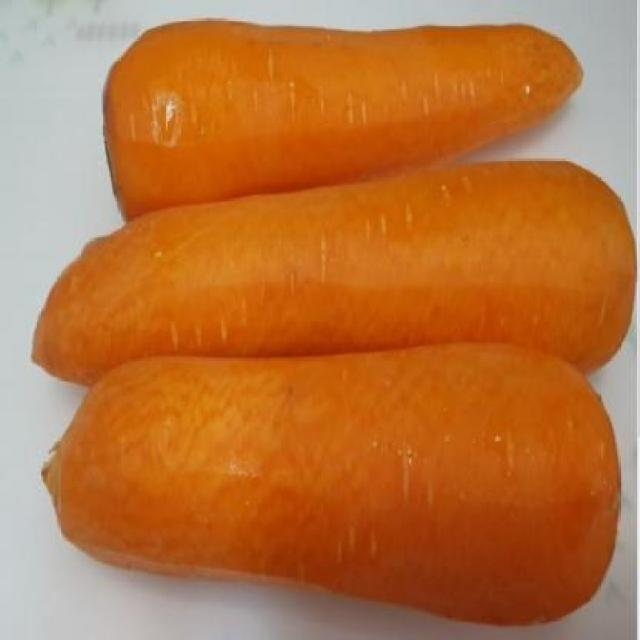carrot: (42, 338, 626, 636), (28, 152, 640, 398), (101, 9, 590, 228)
